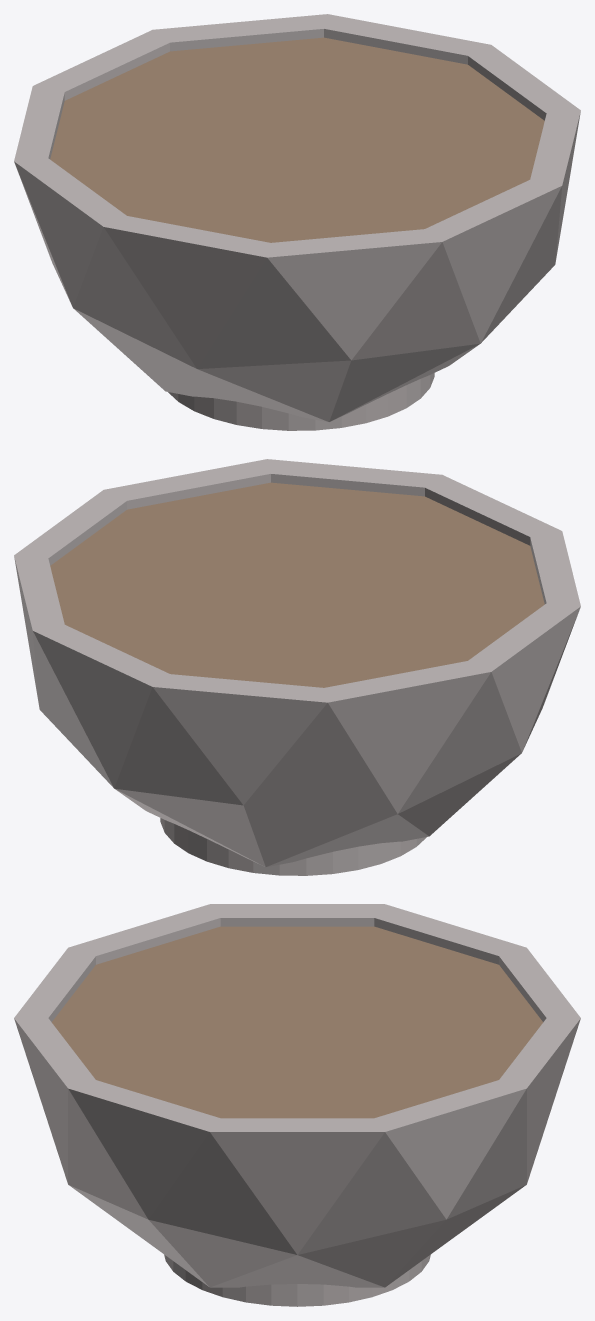
The model's file is soup_tomato.glb.
3 views of the same model, one above another, from view 1: azimuth 30°, elevation 25°; view 2: azimuth 150°, elevation 25°; view 3: azimuth 270°, elevation 25° (orthographic). The views are drawn at different scales.
Visible parts, largest first — view 1: Icosphere.001; view 2: Icosphere.001; view 3: Icosphere.001.
Boxes of the visible parts, <box> form: Icosphere.001: <box>14,14,580,430</box>; Icosphere.001: <box>14,459,580,875</box>; Icosphere.001: <box>14,904,580,1306</box>.
Bounding box in the file's own units: 1.9 × 0.9027 × 2.
